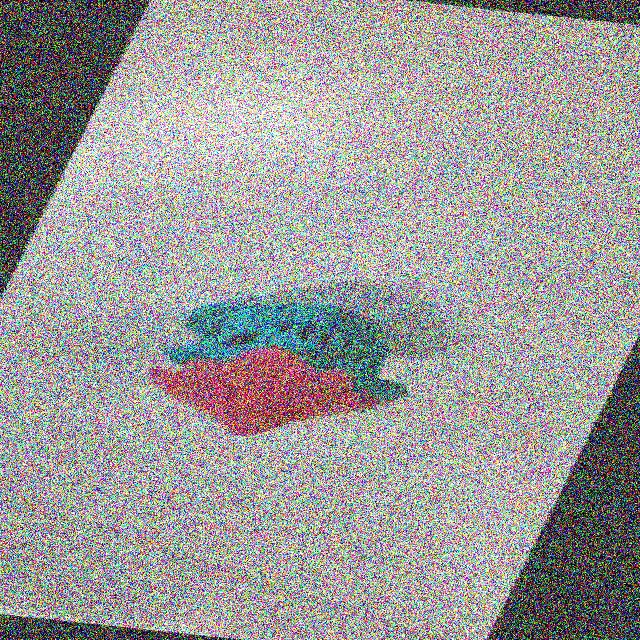House: (95, 263, 519, 470)
